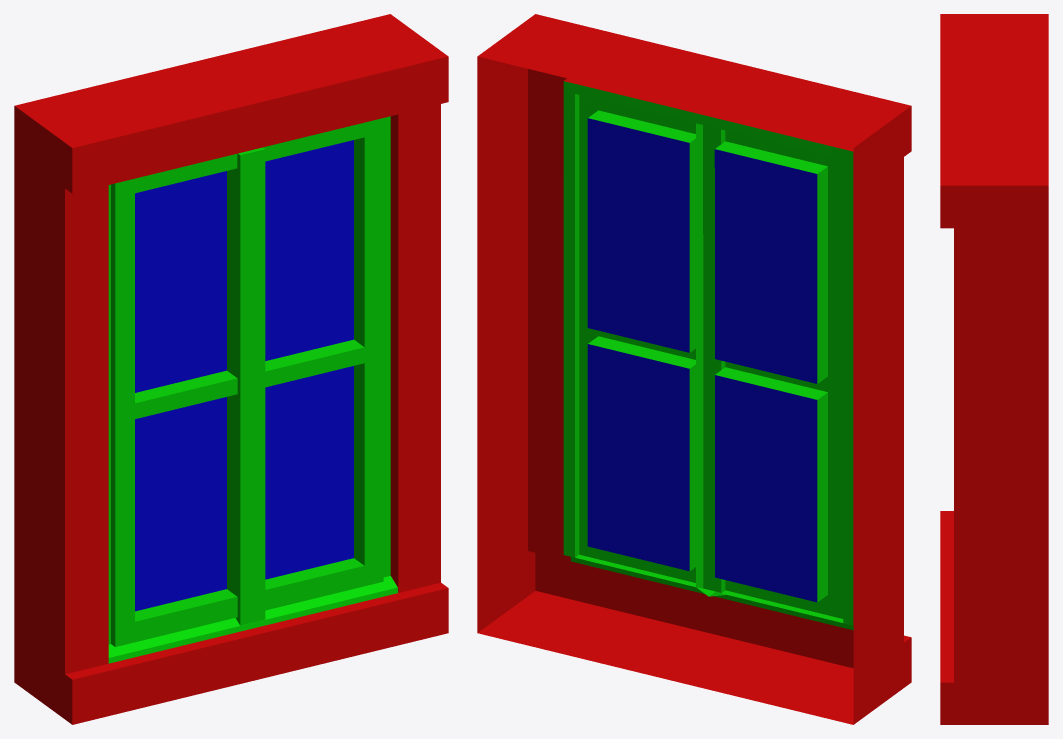
File: Window03_Nice.fbx
3 views of the same model, side by side, from view 1: azimuth 30°, elevation 25°; view 2: azimuth 150°, elevation 25°; view 3: azimuth 270°, elevation 25° (orthographic). The views are drawn at different scales.
Parts seen in each view (by area): view 1: Window003; view 2: Window003; view 3: Window003.
Boxes of the visible parts, <box> form: Window003: <box>14,14,448,724</box>; Window003: <box>477,14,911,724</box>; Window003: <box>940,14,1048,724</box>.
Bounding box in the file's own units: 100 × 147 × 26.72.
